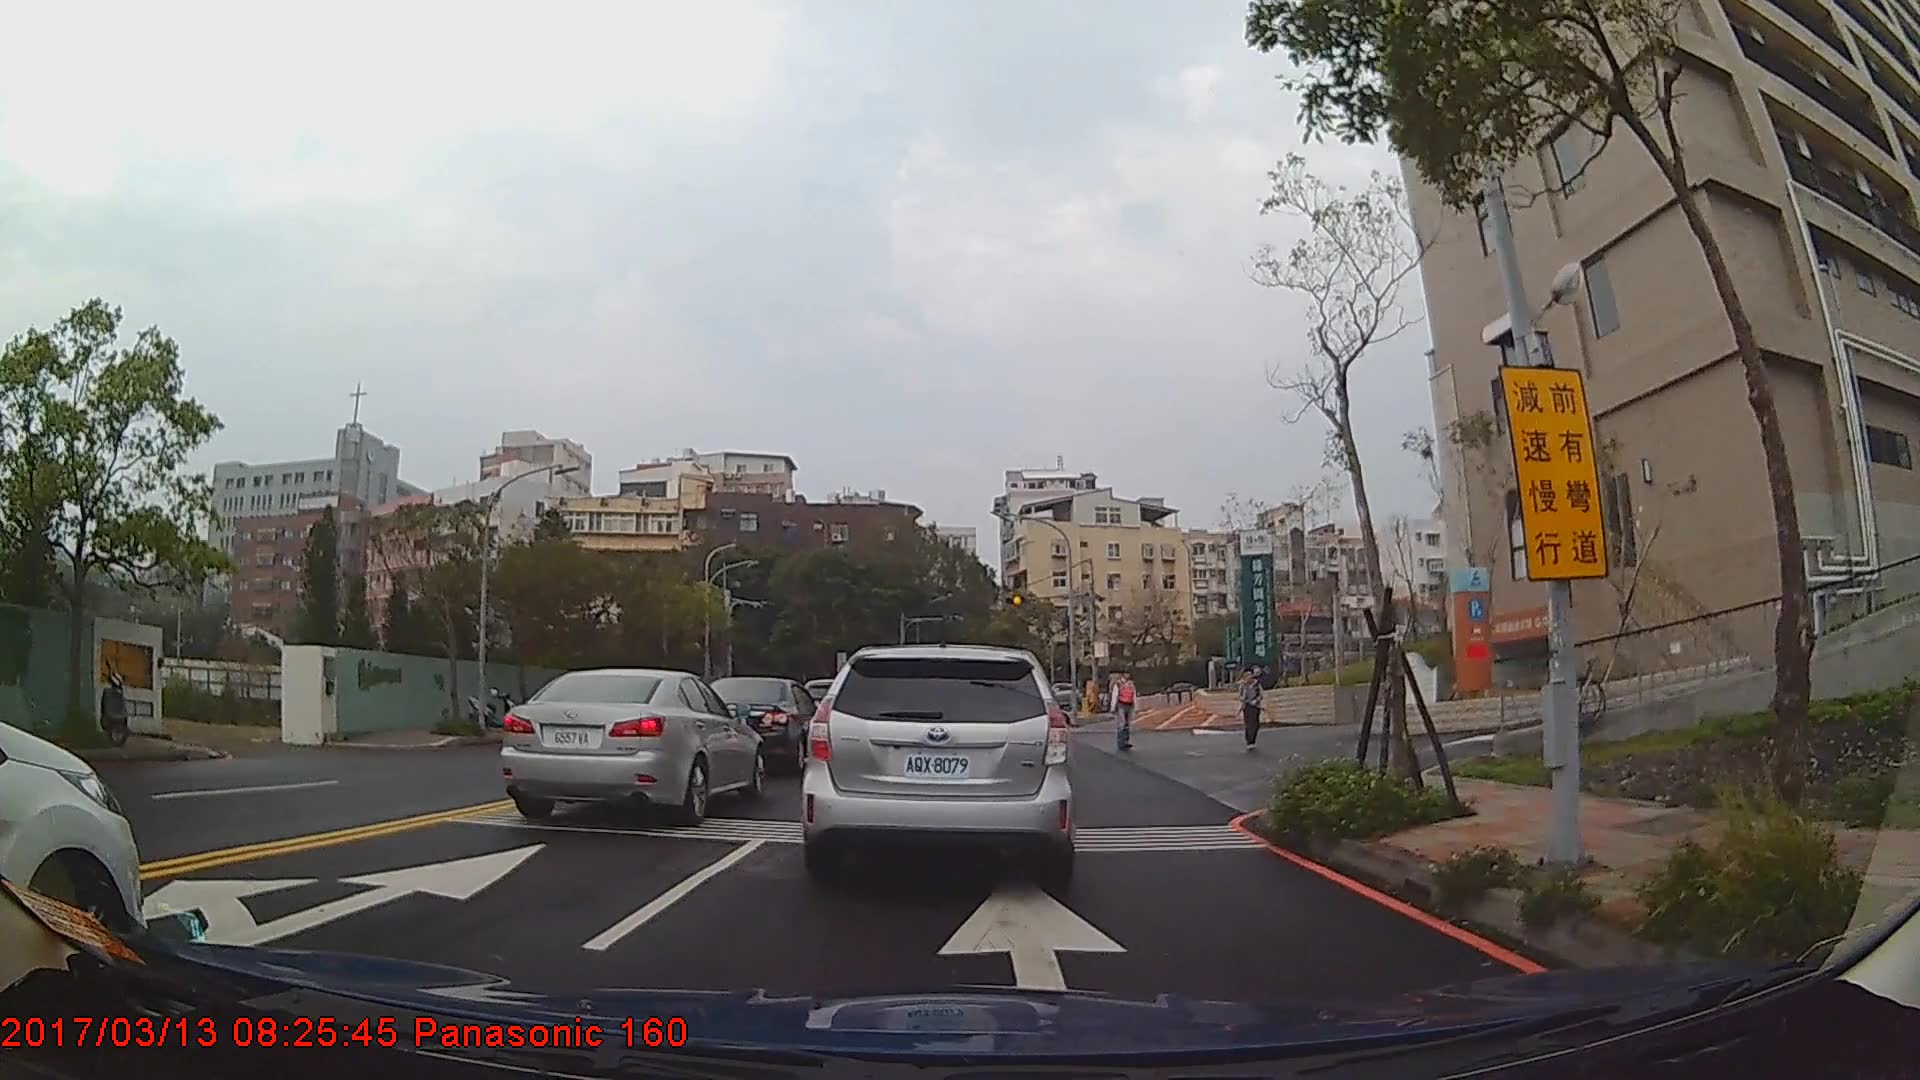pedestrian: (1109, 670, 1139, 752), (1239, 668, 1265, 754)
vehicle: (801, 642, 1075, 879), (501, 667, 764, 822), (696, 675, 819, 774)
